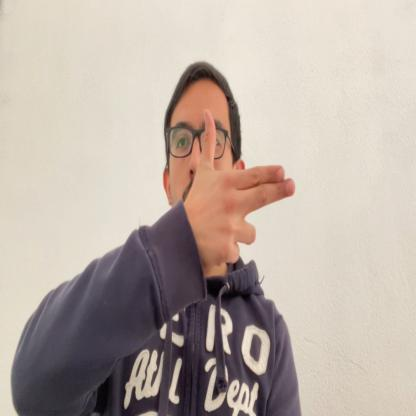H: (196, 107, 296, 265)
